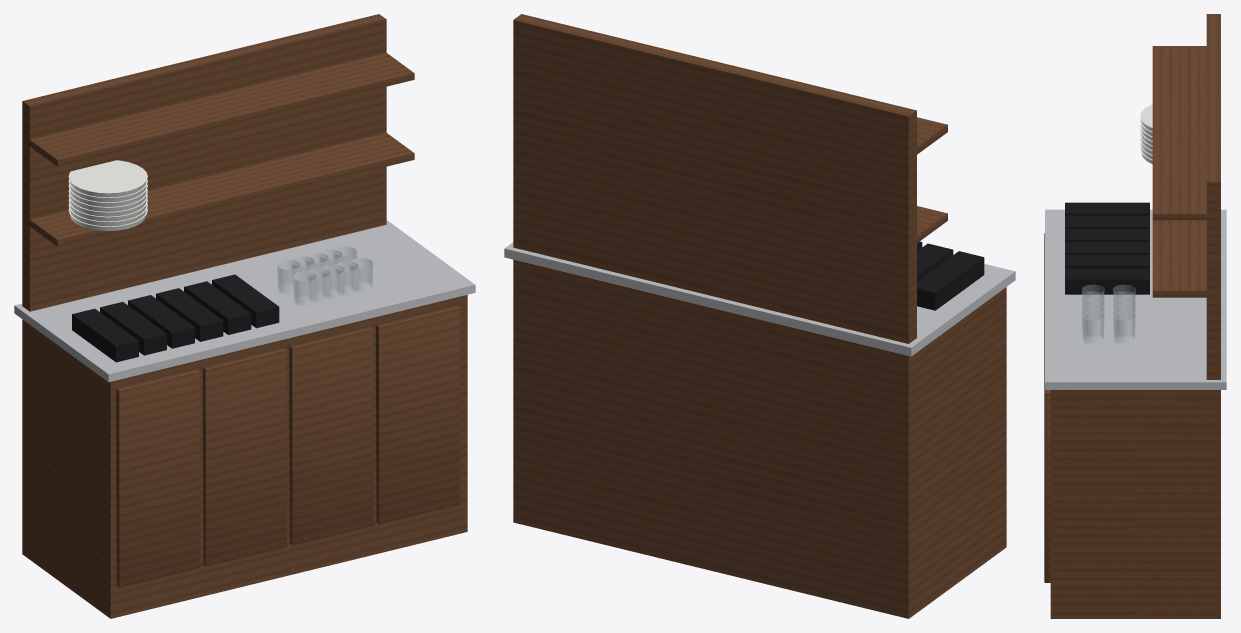
File: restaurant-service-station.glb
The picture shows the model from 3 angles, left to right: view 1: azimuth 30°, elevation 25°; view 2: azimuth 150°, elevation 25°; view 3: azimuth 270°, elevation 25°; orthographic projection. The views are drawn at different scales.
Parts seen in each view (by area): view 1: Restaurant service station - Walnut tables and joinery, Restaurant service station - Stainless steel, Restaurant service station - Black powder-coated steel, Restaurant service station - White ceramic / painted, Restaurant service station - Glazing (alpha-blended); view 2: Restaurant service station - Walnut tables and joinery, Restaurant service station - Stainless steel, Restaurant service station - Black powder-coated steel; view 3: Restaurant service station - Walnut tables and joinery, Restaurant service station - Stainless steel, Restaurant service station - Black powder-coated steel, Restaurant service station - Glazing (alpha-blended), Restaurant service station - White ceramic / painted.
Part boxes in pixels (x1,y1,x2,y2): Restaurant service station - Walnut tables and joinery: [22, 14, 467, 618]; Restaurant service station - Stainless steel: [14, 220, 475, 382]; Restaurant service station - Black powder-coated steel: [72, 274, 279, 362]; Restaurant service station - White ceramic / painted: [68, 160, 147, 230]; Restaurant service station - Glazing (alpha-blended): [277, 246, 372, 306]; Restaurant service station - Walnut tables and joinery: [513, 14, 1006, 618]; Restaurant service station - Stainless steel: [504, 242, 1015, 356]; Restaurant service station - Black powder-coated steel: [917, 241, 984, 310]; Restaurant service station - Walnut tables and joinery: [1044, 14, 1220, 618]; Restaurant service station - Stainless steel: [1045, 209, 1226, 389]; Restaurant service station - Black powder-coated steel: [1065, 202, 1149, 294]; Restaurant service station - Glazing (alpha-blended): [1082, 285, 1135, 344]; Restaurant service station - White ceramic / painted: [1140, 104, 1152, 164].
Size of the model in its own units: 1.44 by 1.7 by 0.642.
5 materials, 5 textured.
